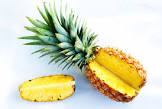Pineapple: (18, 1, 148, 104)
